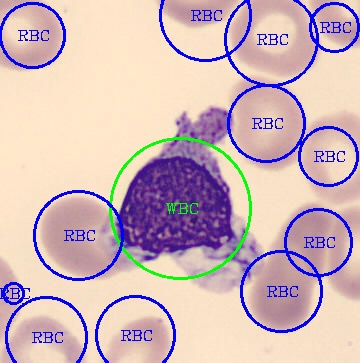RBC: (228, 0, 323, 80), (230, 73, 306, 172), (37, 193, 116, 281), (247, 247, 316, 334), (300, 107, 359, 206), (270, 199, 330, 282), (0, 0, 65, 73), (0, 313, 88, 361), (98, 313, 172, 361)
WBC: (105, 103, 260, 291)
